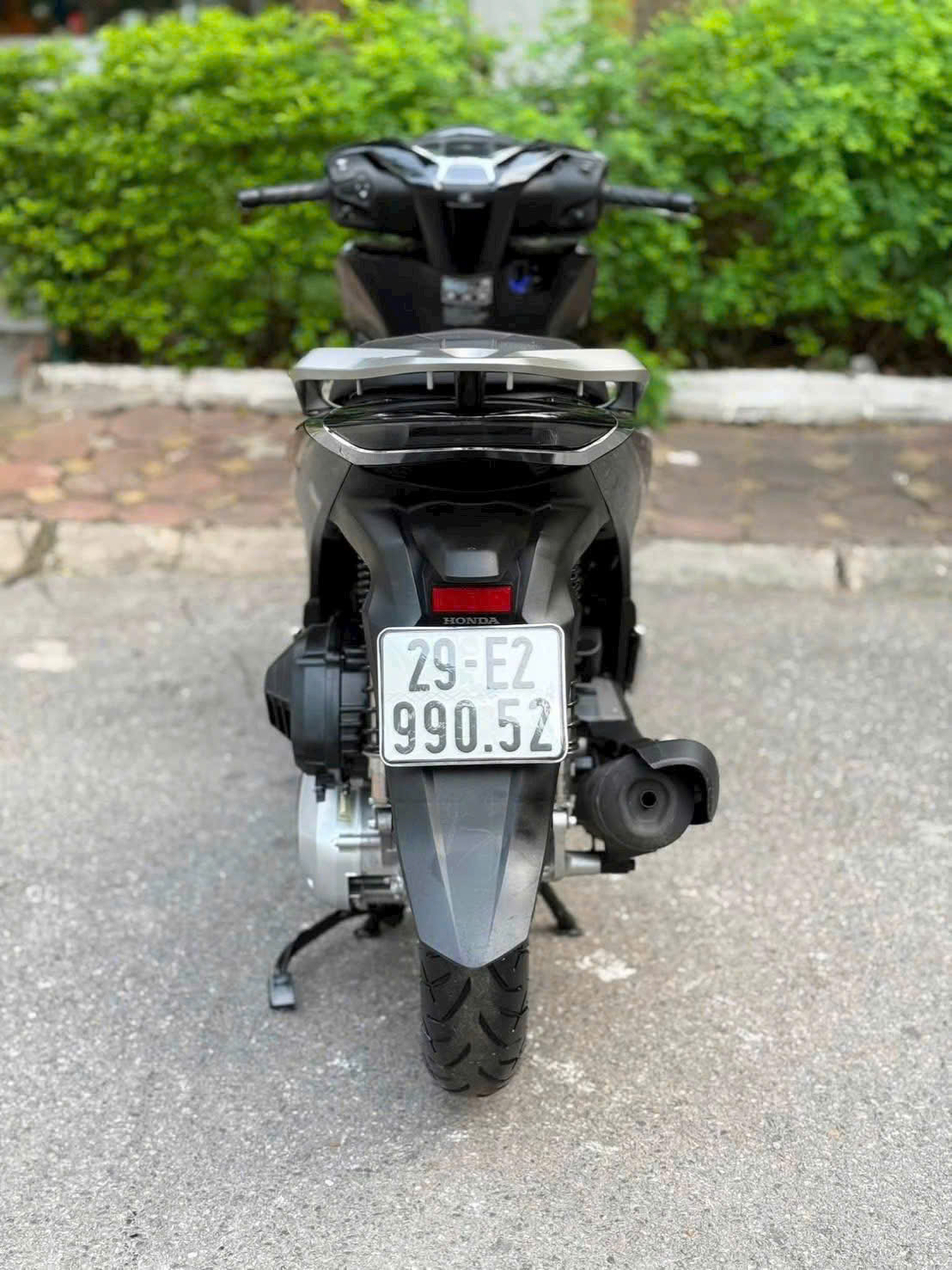Bien-so: (372, 620, 577, 774)
